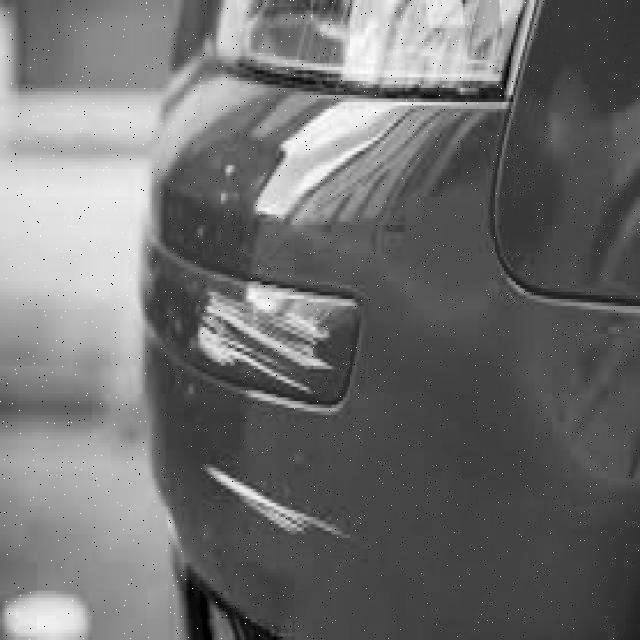front-bumper-dent: (116, 47, 505, 638)
